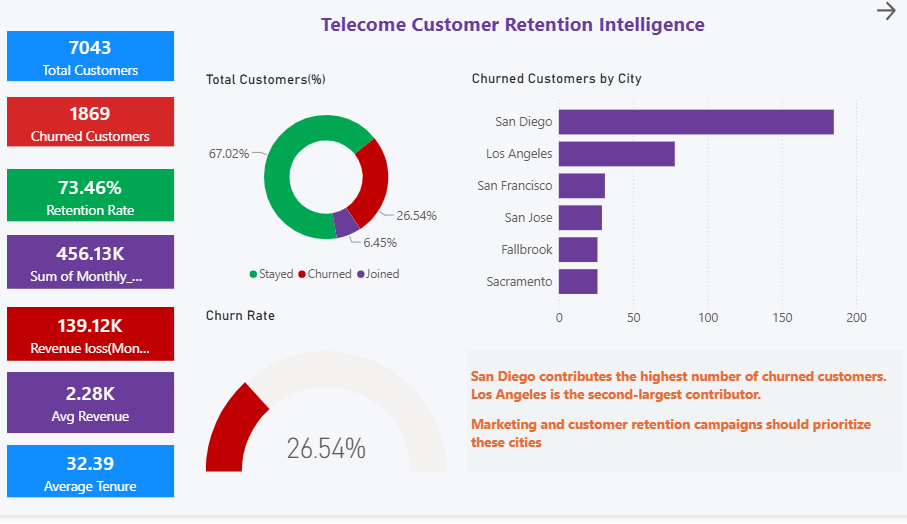

The page's visual inventory and layout, read from the dashboard file:
{"tool":"powerbi","page":{"name":"Executive Overview","canvas":[1280,720],"ordinal":0},"visuals":[{"type":"cardVisual","fields":{"Data":["telecom_db telecome_churn.Total Customers"]},"box":[29.8,53.9,229.6,69.4],"z":0},{"type":"cardVisual","fields":{"Data":["telecom_db telecome_churn.Churned Customers"]},"box":[29.8,144.6,229.6,68],"z":1000},{"type":"cardVisual","fields":{"Data":["telecom_db telecome_churn.Retention Rate"]},"box":[29.8,243.8,229.6,72.3],"z":2000},{"type":"cardVisual","fields":{"Data":["Sum(telecom_db telecome_churn.Monthly_Charge)"]},"box":[29.7,334.2,229.7,73.5],"z":3000},{"type":"cardVisual","fields":{"Data":["telecom_db telecome_churn.Avg Revenue"]},"box":[29.8,523,229.6,83.6],"z":4000},{"type":"cardVisual","fields":{"Data":["telecom_db telecome_churn.Revenue loss(Churn)"]},"box":[29.8,433.7,229.6,73.7],"z":5000},{"type":"cardVisual","fields":{"Data":["Avg(telecom_db telecome_churn.Tenure_in_Months)"]},"box":[29.7,623.2,229.7,72.3],"z":6000},{"type":"textbox","box":[423.8,19.8,605.2,53.9],"z":7000},{"type":"donutChart","title":"Total Customers(%)","fields":{"Category":["telecom_db telecome_churn.Customer_Status"],"Y":["telecom_db telecome_churn.Total Customers"]},"box":[298.5,108.4,341.5,300],"z":8000},{"type":"barChart","fields":{"Category":["telecom_db telecome_churn.City"],"Y":["telecom_db telecome_churn.Churned Customers"]},"box":[664.7,107.7,554.2,362.8],"z":9000},{"type":"gauge","fields":{"Y":["telecom_db telecome_churn.Churn Rate"]},"box":[298.5,433.6,341.5,262.8],"z":10000},{"type":"textbox","box":[663.1,492.6,599.5,167.6],"z":11000},{"type":"actionButton","box":[1218.9,5.7,45.4,41.1],"z":12000}]}

Visuals, with their boxes in screenshot pixels (x1, y1, x2, y2), scaled from the page's 1280x720 canvas onto the 907x524 screenshot:
cardVisual - telecom_db telecome_churn.Total Customers: pyautogui.locateOnScreen(21, 39, 184, 90)
cardVisual - telecom_db telecome_churn.Churned Customers: pyautogui.locateOnScreen(21, 105, 184, 155)
cardVisual - telecom_db telecome_churn.Retention Rate: pyautogui.locateOnScreen(21, 177, 184, 230)
cardVisual - Sum(telecom_db telecome_churn.Monthly_Charge): pyautogui.locateOnScreen(21, 243, 184, 297)
cardVisual - telecom_db telecome_churn.Avg Revenue: pyautogui.locateOnScreen(21, 381, 184, 441)
cardVisual - telecom_db telecome_churn.Revenue loss(Churn): pyautogui.locateOnScreen(21, 316, 184, 369)
cardVisual - Avg(telecom_db telecome_churn.Tenure_in_Months): pyautogui.locateOnScreen(21, 454, 184, 506)
textbox: pyautogui.locateOnScreen(300, 14, 729, 54)
"Total Customers(%)" donutChart: pyautogui.locateOnScreen(212, 79, 454, 297)
barChart - telecom_db telecome_churn.City x telecom_db telecome_churn.Churned Customers: pyautogui.locateOnScreen(471, 78, 864, 342)
gauge - telecom_db telecome_churn.Churn Rate: pyautogui.locateOnScreen(212, 316, 454, 507)
textbox: pyautogui.locateOnScreen(470, 359, 895, 480)
actionButton: pyautogui.locateOnScreen(864, 4, 896, 34)
